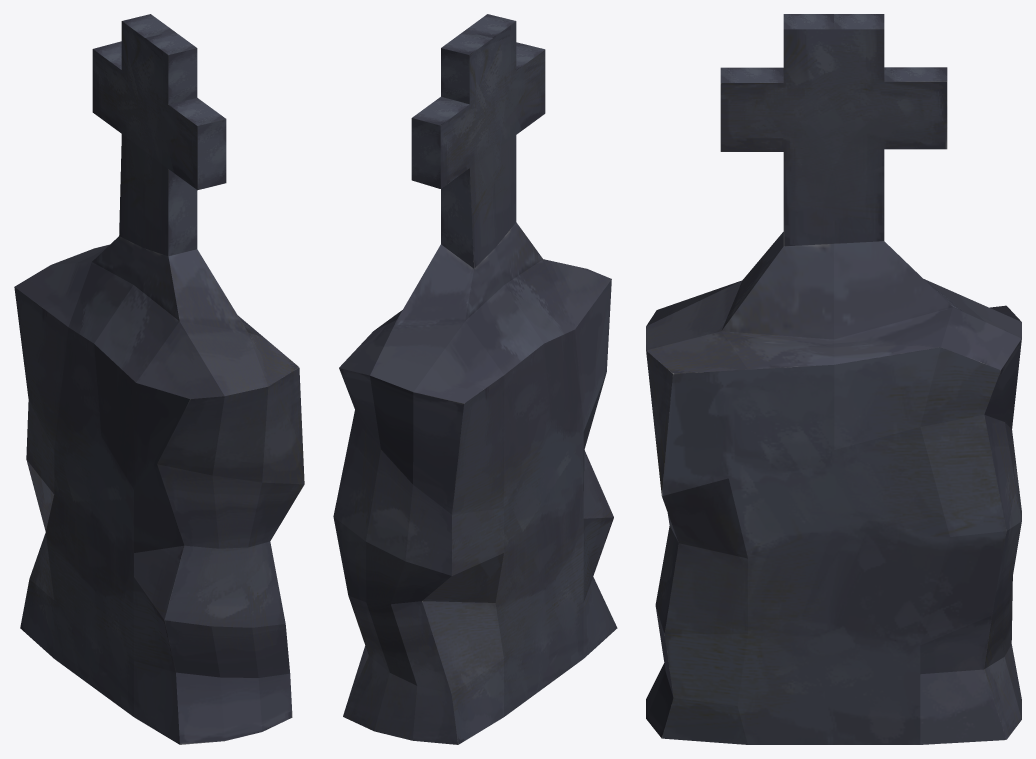
The model's file is Grave_church01.fbx.
3 renders of one model, left to right at view 1: azimuth 30°, elevation 25°; view 2: azimuth 150°, elevation 25°; view 3: azimuth 270°, elevation 25°, orthographic. The views are drawn at different scales.
Visible parts, largest first — view 1: Grave_church01; view 2: Grave_church01; view 3: Grave_church01.
Part boxes in pixels (x1,y1,x2,y2): Grave_church01: (14, 14, 304, 744); Grave_church01: (333, 14, 617, 744); Grave_church01: (646, 14, 1021, 744).
Size of the model in its own units: 0.1631 by 0.7603 by 0.376.
Materials: 1 (1 with a texture image).
